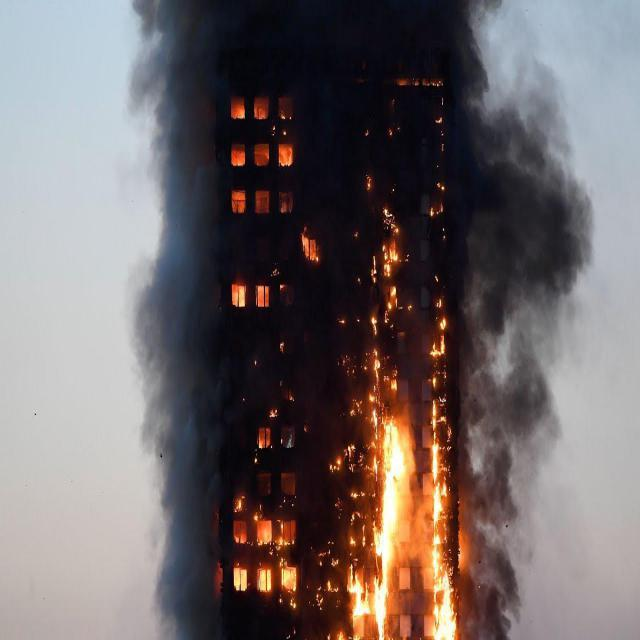Fire: (352, 370, 462, 639)
